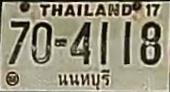0: (31, 21, 51, 63)
1: (100, 21, 107, 64), (123, 21, 130, 64)
4: (70, 21, 90, 63)
7: (9, 20, 29, 63)
8: (140, 21, 160, 64)
NBI: (57, 68, 112, 90)
